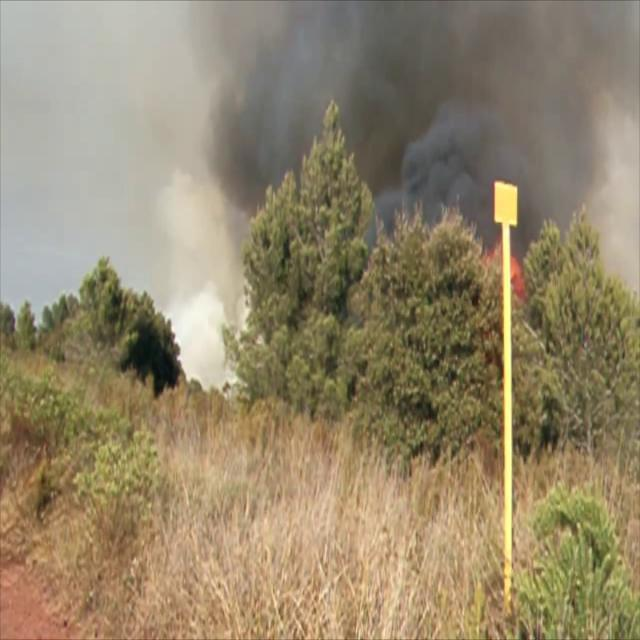Smoke: (155, 0, 640, 257)
